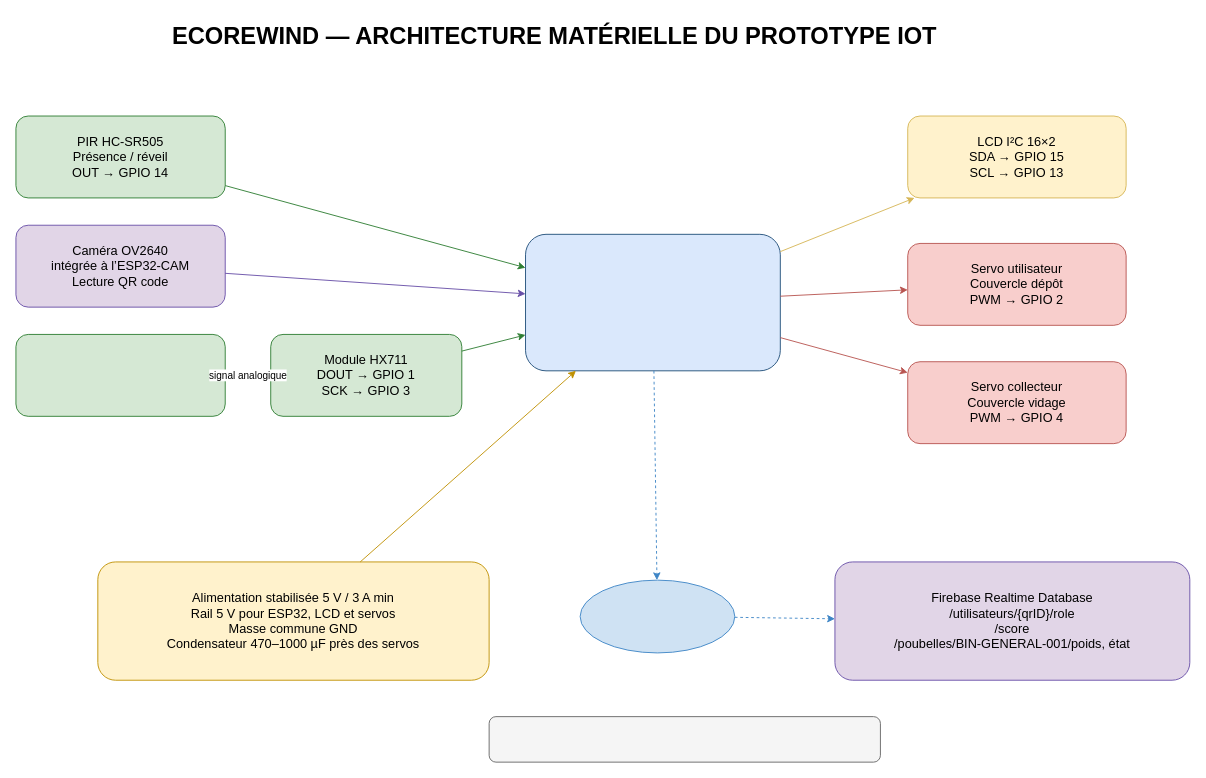
The diagram is 1206 pixels wide and 778 high, and some of its shapes have lost their labels. Each missing label, with the centre of its shape:
Bac + cellule de charge Mesure force / poids: point 120,375
ESP32-CAM AI Thinker Unité centrale Caméra OV2640 intégrée QR, Wi-Fi, Deep Sleep: point 652,302
Sécurité : les identifiants Wi-Fi et le jeton Firebase ne sont pas représentés.: point 684,739
Wi-Fi / Internet: point 657,616
